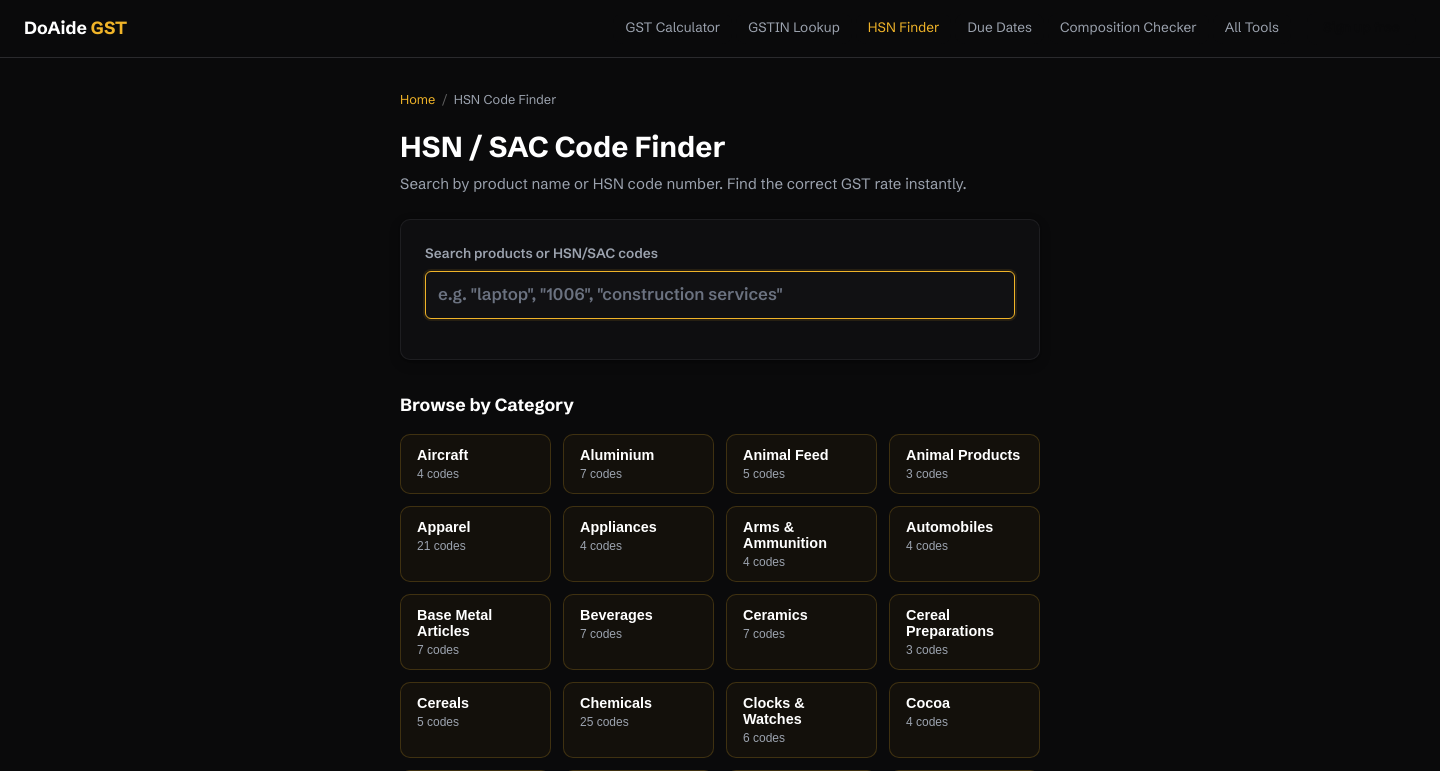
Test: HsnFinderPage › shows results when searching by keyword
Type "cement" into the search field with placeholder "e.g. \"laptop\", \"1006\", \"construction services\"" at (720, 295), box [425,271,1015,319]
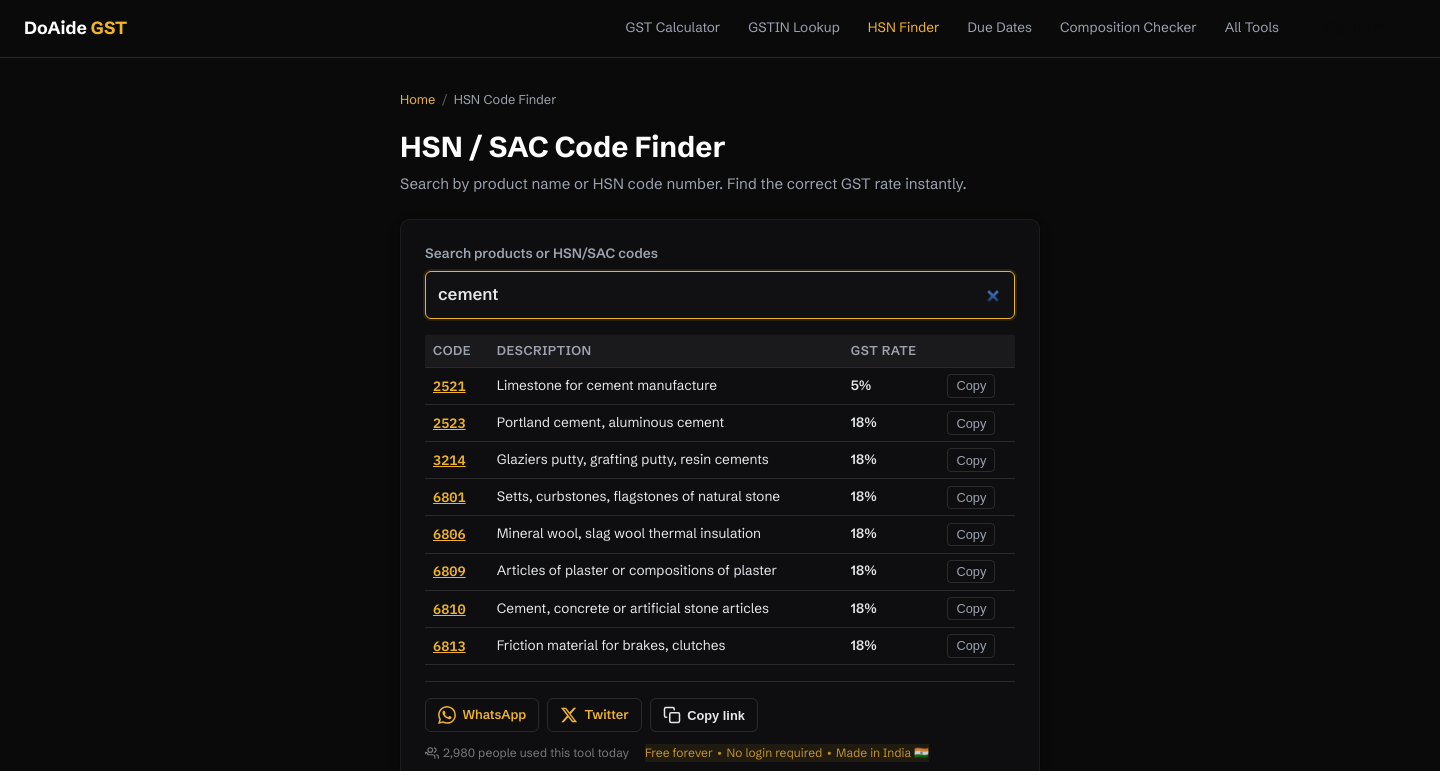
Expected: the link "2523" is shown, [433,414,466,432]
